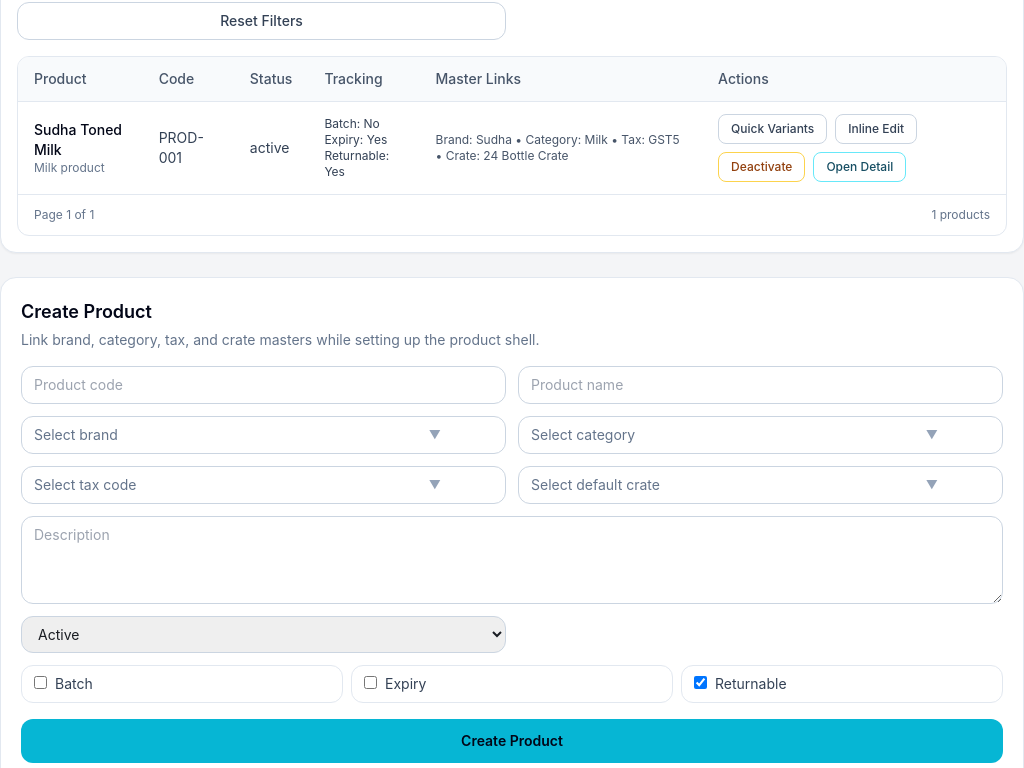
ProductsManagementView › submits normalized create product payload
(page scrolled)
Expected: the text "Sudha Toned Milk" is shown, [34,120,127,160]
Step 1. Type "  PROD-NEW-001  " into the field with placeholder "Product code" → (264, 385), box [21,366,506,404]
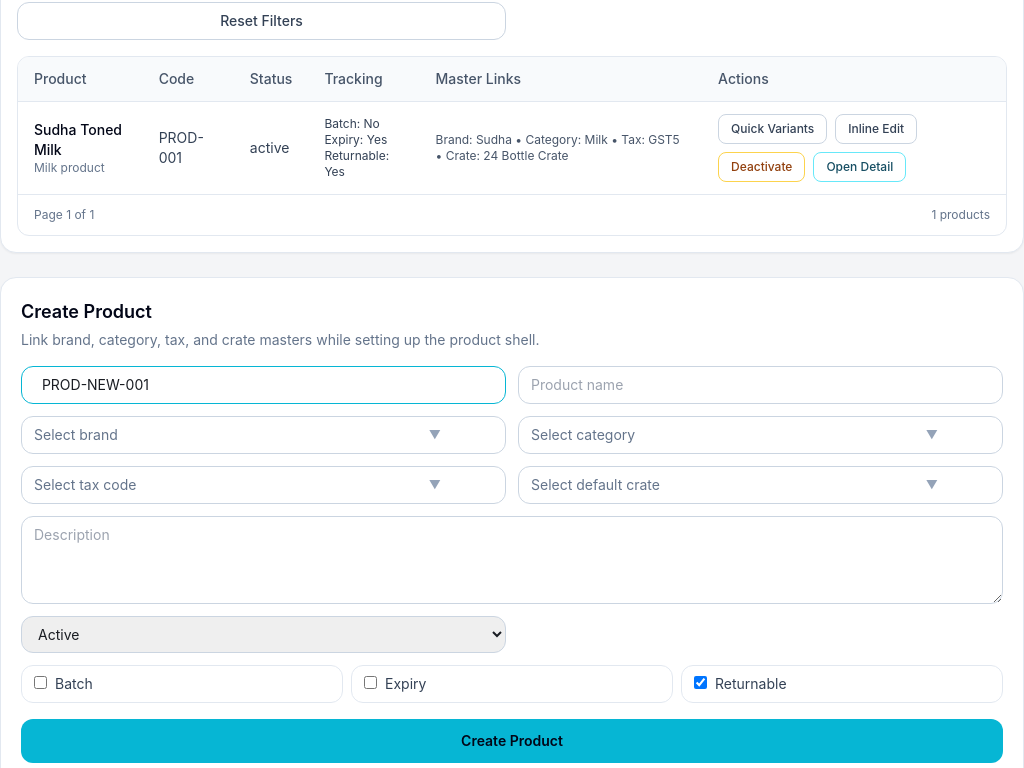
Step 2. Type "  New Product  " into the field with placeholder "Product name" → (760, 385), box [518,366,1003,404]
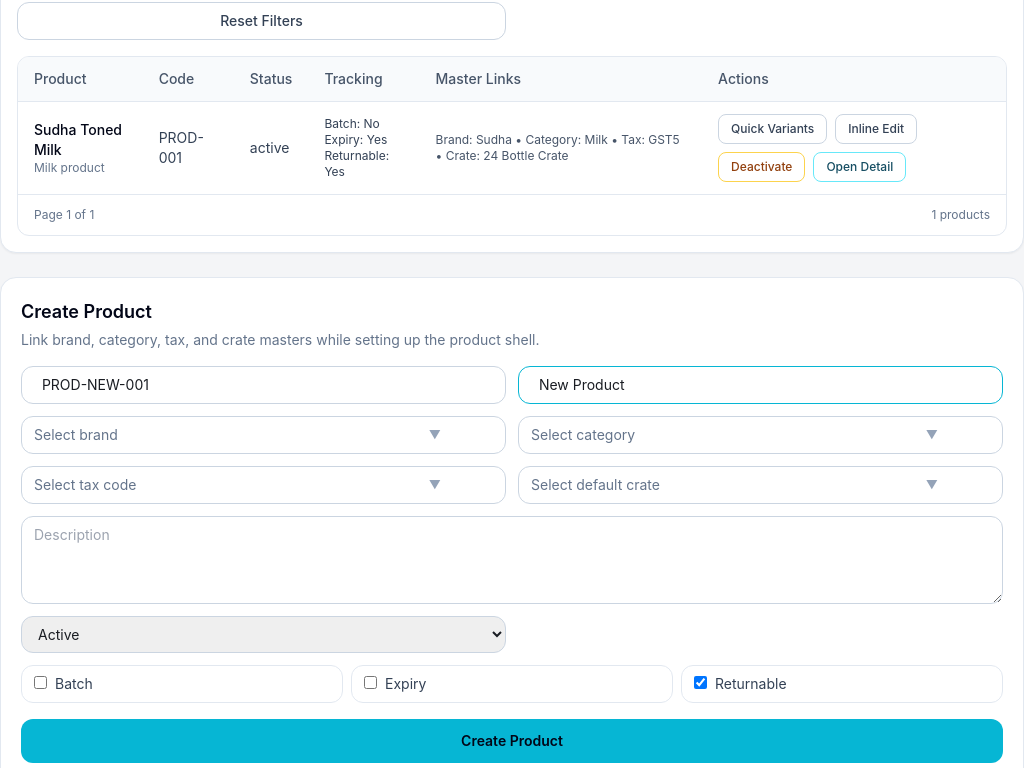
Step 3. Click the button "Create Product" → (512, 741), box [21,719,1003,763]
(page scrolled)
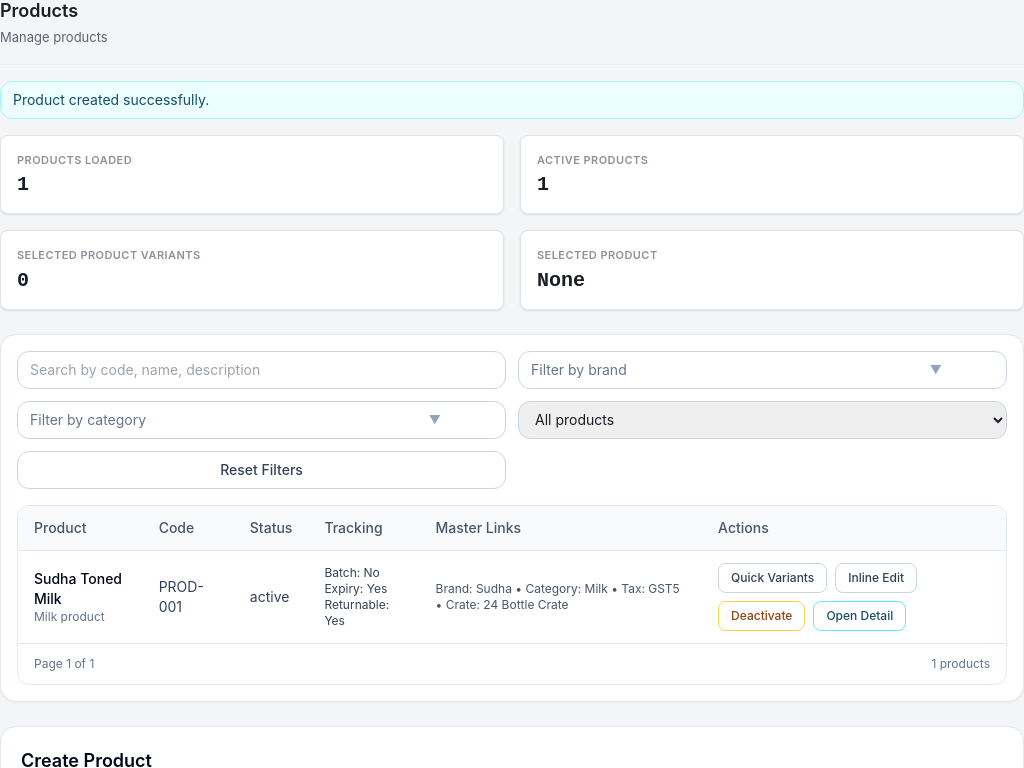
Expected: the text "Product created successfully." is shown, [0,81,1023,119]
